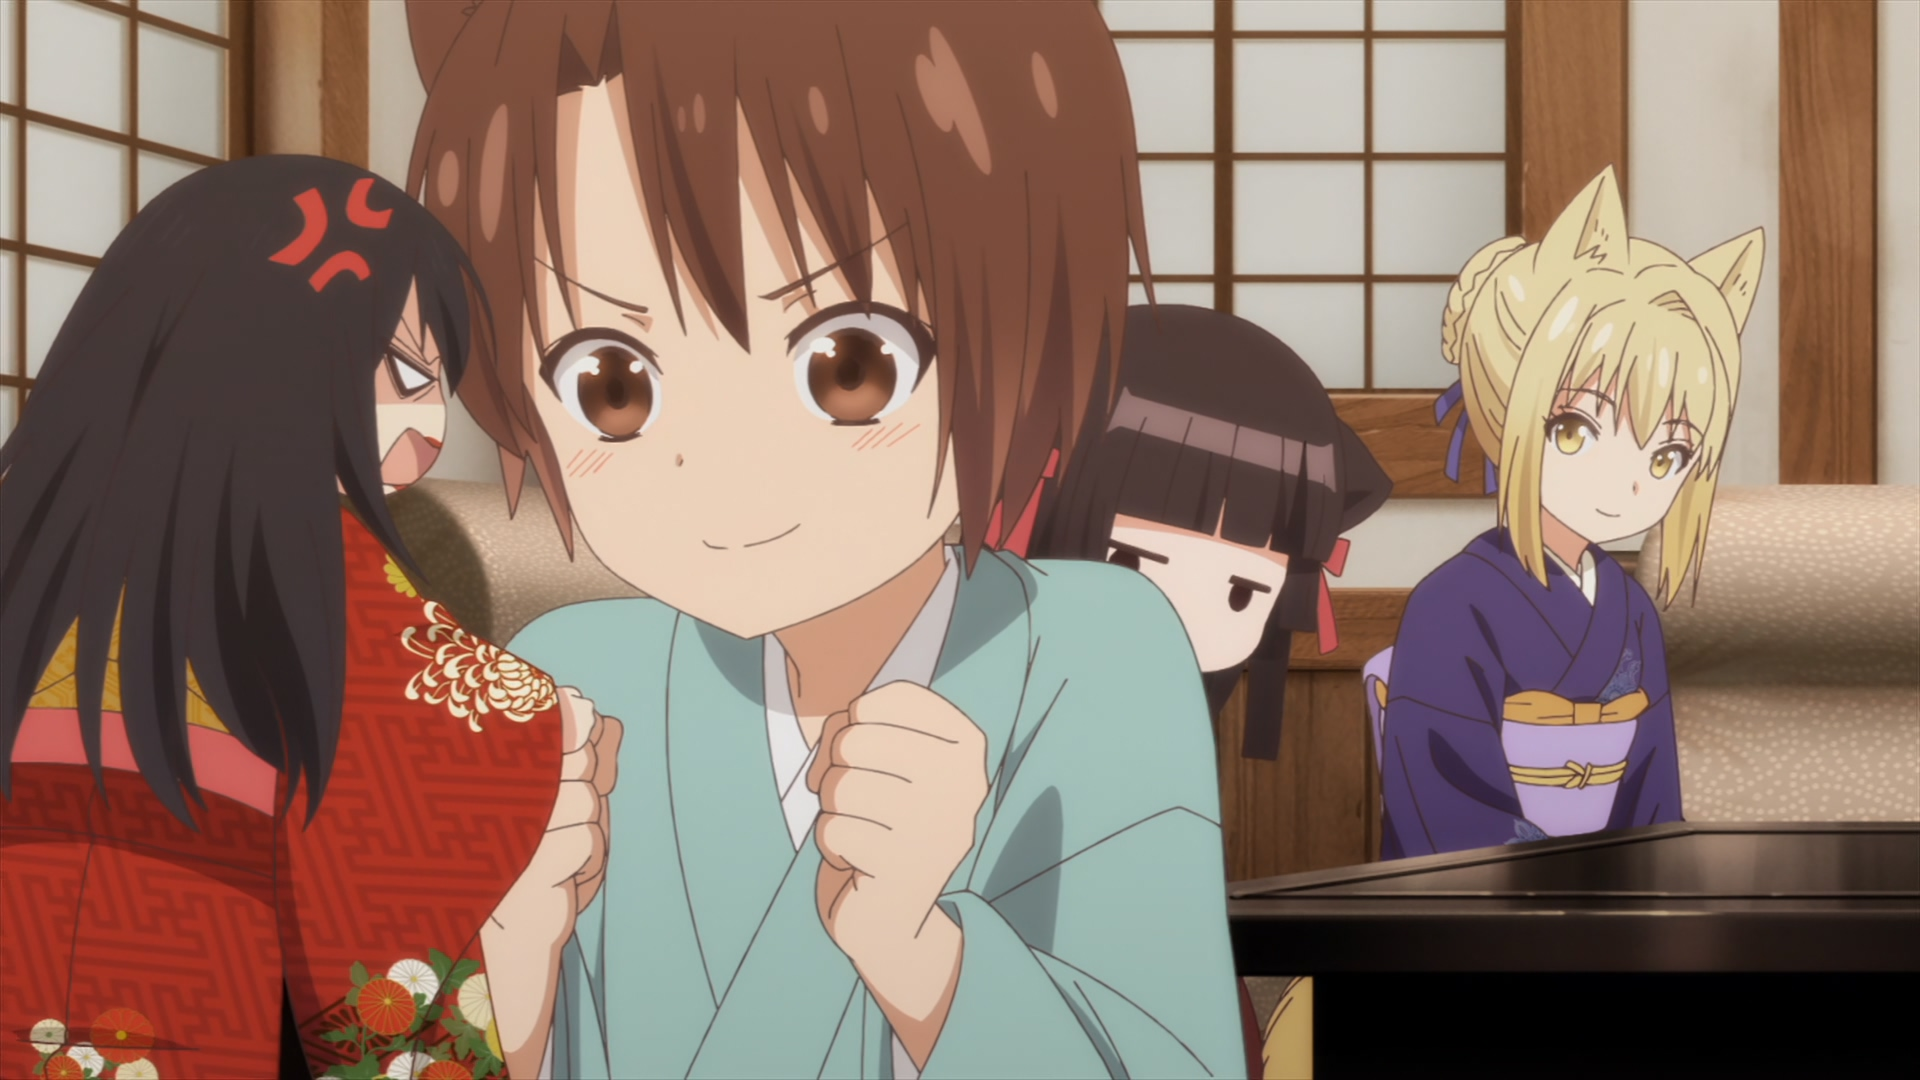枣: (405, 1, 1247, 1080)
桐: (1361, 165, 1768, 860)
樱: (988, 305, 1393, 761)
阿菊: (1, 153, 596, 1080)
